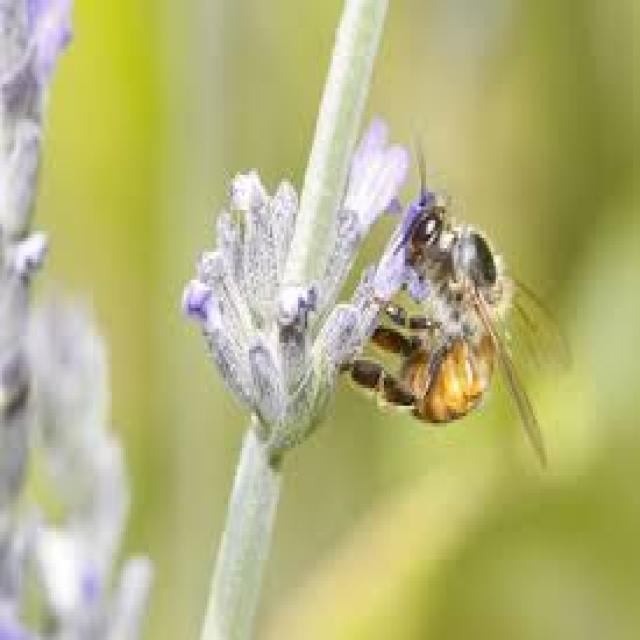Bees: (346, 128, 574, 474)
